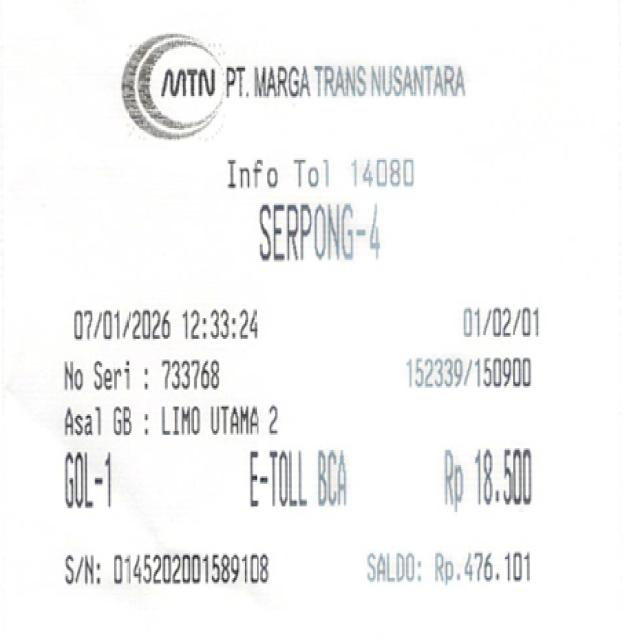date: (66, 304, 264, 346)
store: (132, 44, 477, 108)
total: (428, 440, 538, 515)
